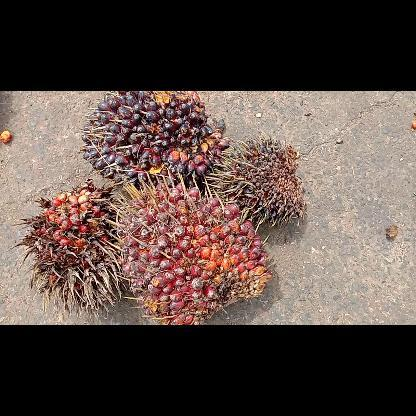Kurang masak: (79, 92, 229, 192)
TBS abnormal: (206, 135, 310, 229)
TBS masak: (108, 180, 274, 324)
Terlalu masak: (14, 178, 118, 316)
